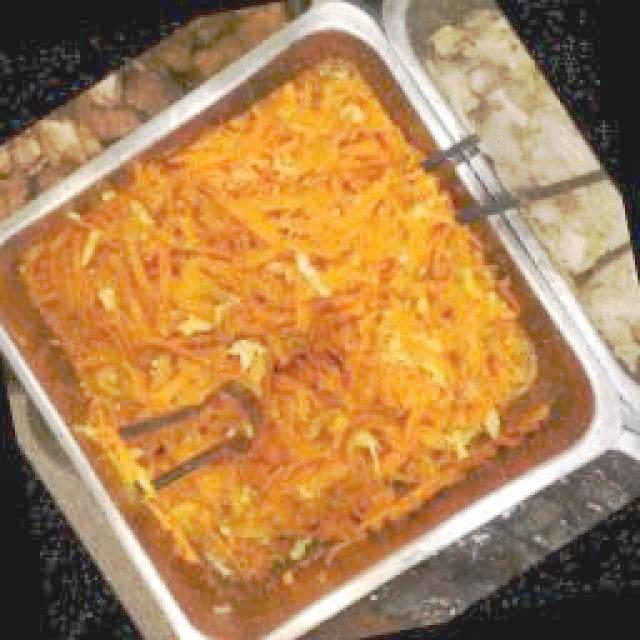carrot_eggs: (21, 59, 551, 583)
